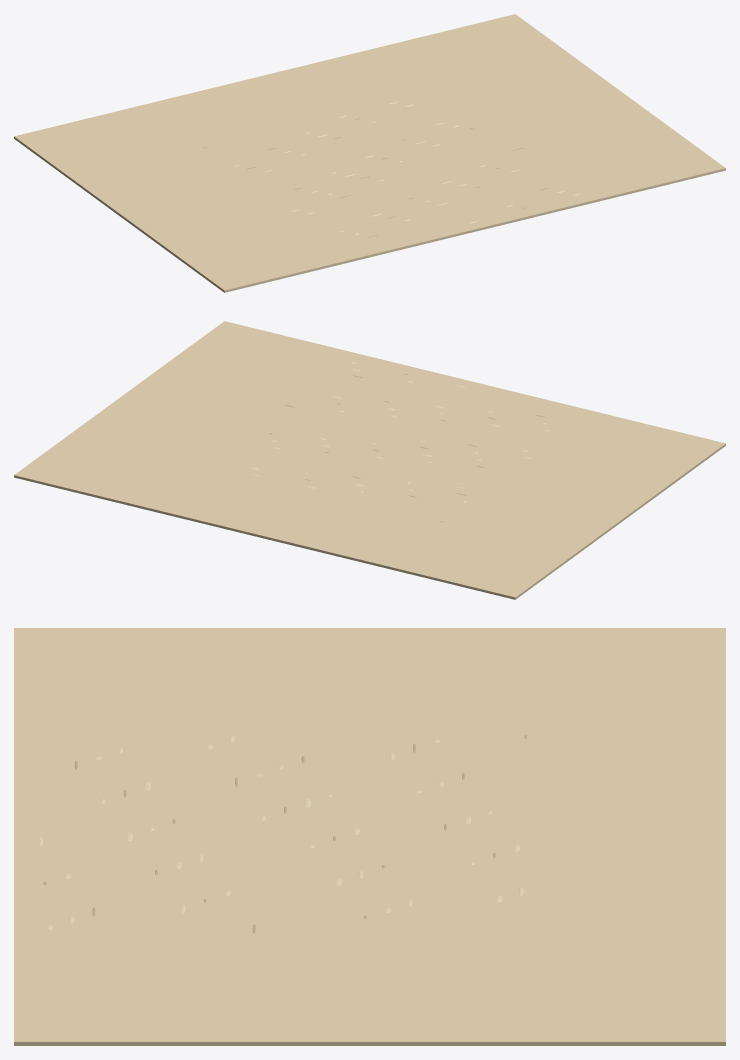
Rendered from suelo_desierto.glb.
The picture shows the model from 3 angles, top to bottom: view 1: azimuth 30°, elevation 25°; view 2: azimuth 150°, elevation 25°; view 3: azimuth 270°, elevation 25°; orthographic projection. The views are drawn at different scales.
Visible parts, largest first — view 1: suelo_desierto; view 2: suelo_desierto; view 3: suelo_desierto.
Part boxes in pixels (left/top/right/bottom): suelo_desierto: left=14, top=14, right=725, bottom=292; suelo_desierto: left=14, top=321, right=725, bottom=599; suelo_desierto: left=14, top=628, right=725, bottom=1045.
Size of the model in its own units: 220 by 1.09 by 160.
